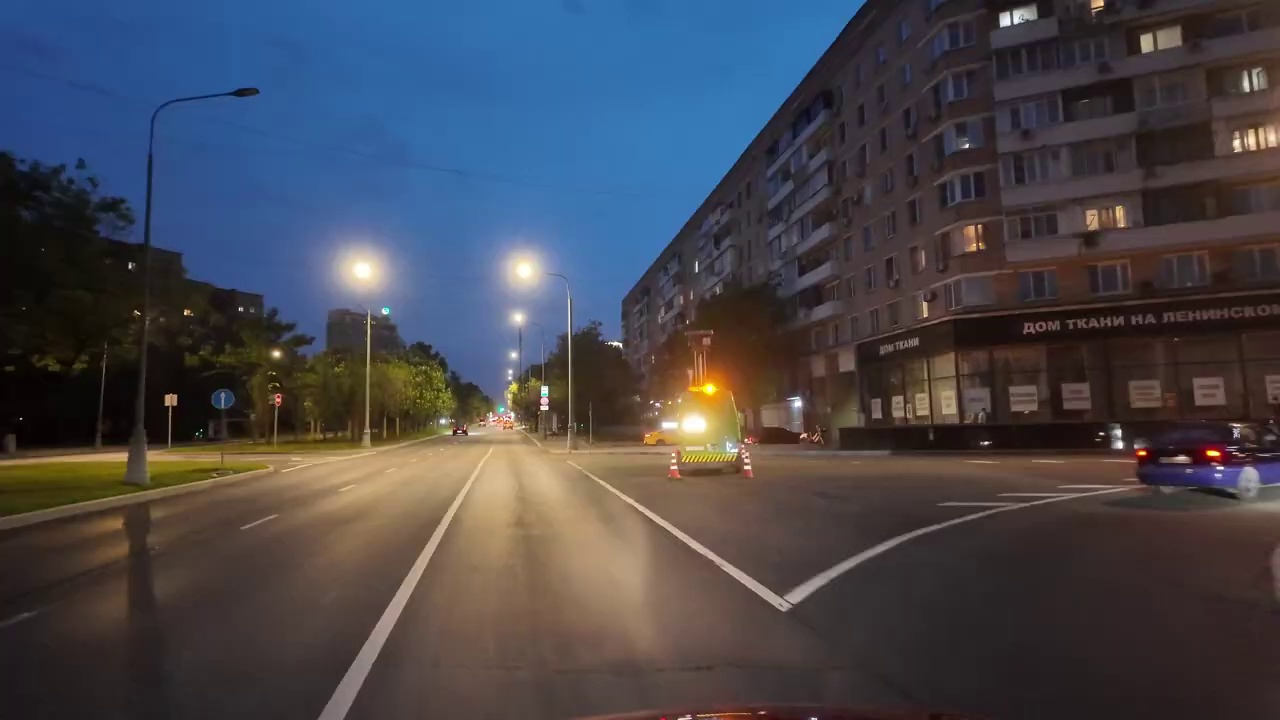acesa: (342, 252, 382, 289), (508, 254, 541, 287), (693, 375, 728, 404), (506, 309, 528, 330)
apagada: (226, 79, 260, 104)
